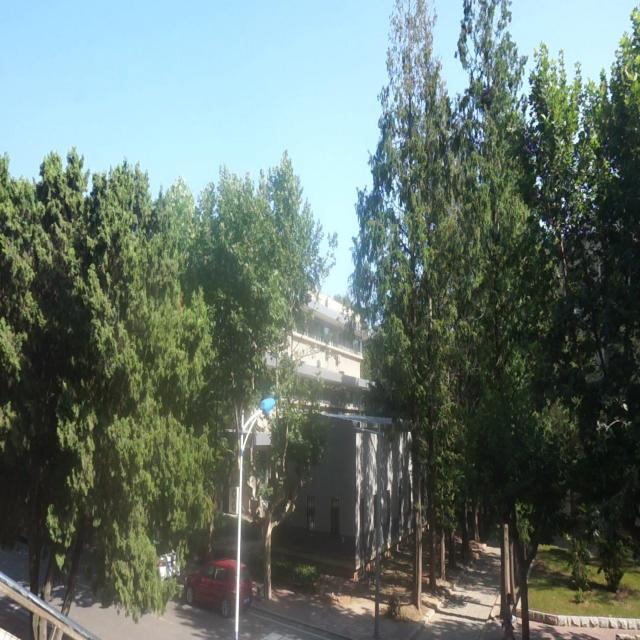UAV: (395, 128, 401, 136)
